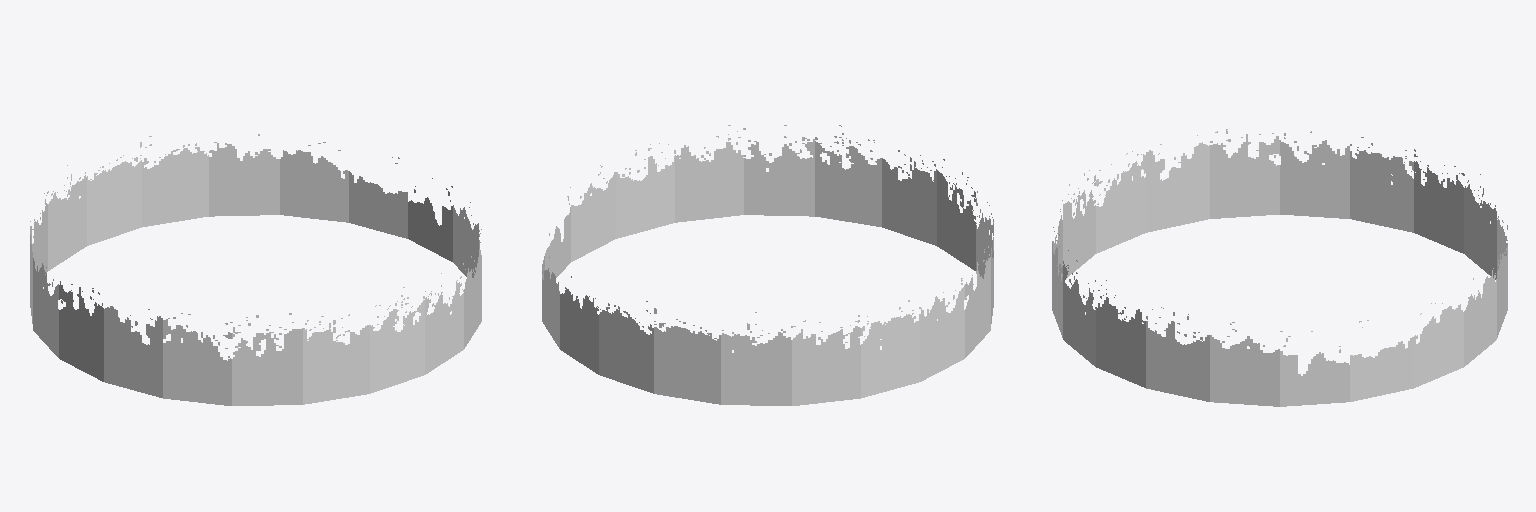
3 renders of one model, left to right at view 1: azimuth 30°, elevation 25°; view 2: azimuth 150°, elevation 25°; view 3: azimuth 270°, elevation 25°, orthographic.
Visible parts, largest first — view 1: polySurface1; view 2: polySurface1; view 3: polySurface1.
Part boxes in pixels (left/top/right/bottom): polySurface1: left=30, top=134, right=481, bottom=405; polySurface1: left=542, top=125, right=993, bottom=405; polySurface1: left=1052, top=129, right=1507, bottom=406.
Bounding box in the file's own units: 1.09 × 0.2902 × 1.09.
Materials: 1 (1 with a texture image).